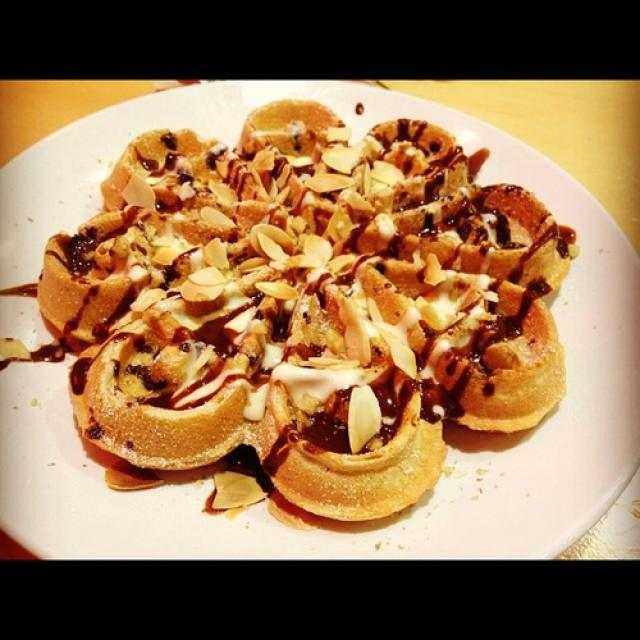炸货点心: (23, 58, 621, 554)
蛋糕甜品: (23, 58, 621, 554)
